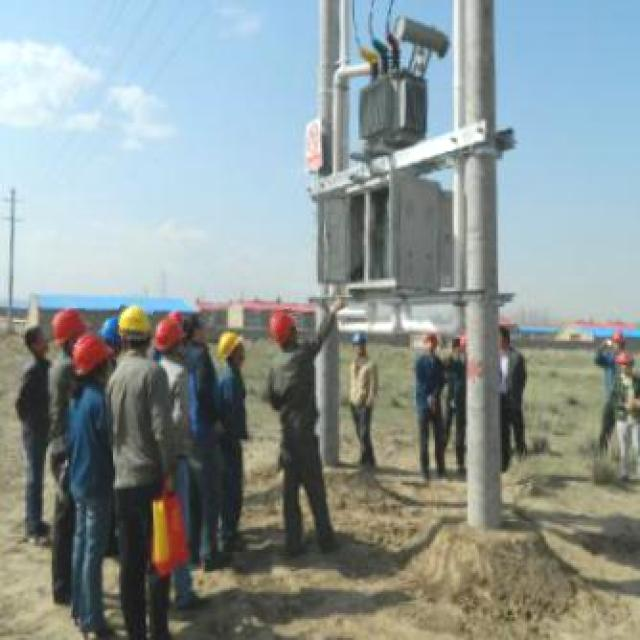helmet: (70, 330, 116, 375), (115, 303, 153, 339), (50, 309, 86, 341), (153, 316, 182, 351), (267, 310, 296, 340), (214, 330, 242, 360), (99, 316, 121, 345), (613, 350, 633, 365), (611, 329, 625, 342), (351, 331, 366, 343)
